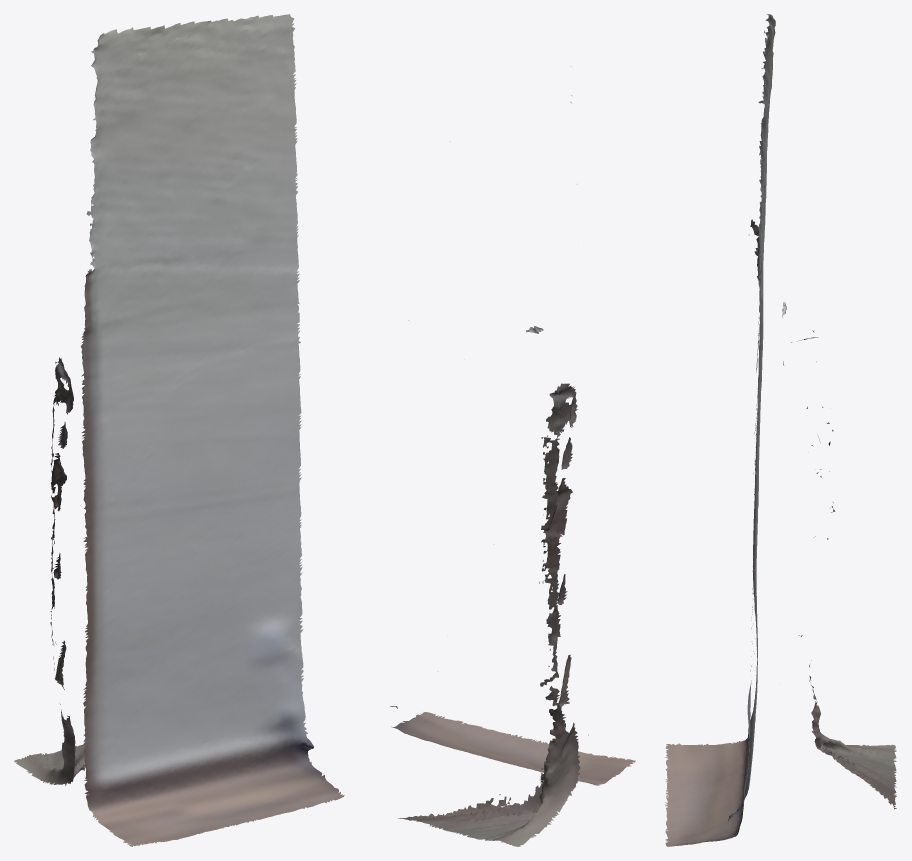
The model's file is apartment-full-84-733ea09be154.glb.
The picture shows the model from 3 angles, left to right: view 1: azimuth 30°, elevation 25°; view 2: azimuth 150°, elevation 25°; view 3: azimuth 270°, elevation 25°; orthographic projection. The views are drawn at different scales.
Size of the model in its own units: 0.647 by 2.2 by 0.622.
